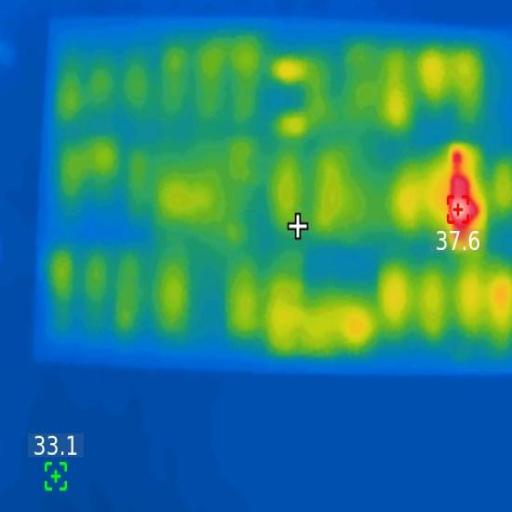hotspot: (450, 149, 476, 239)
